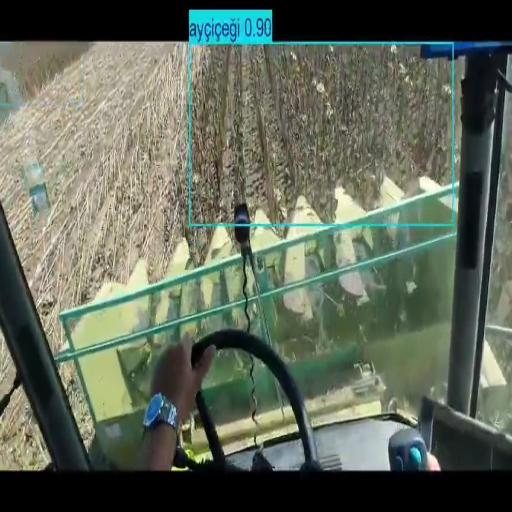ayc: (193, 45, 451, 223)
